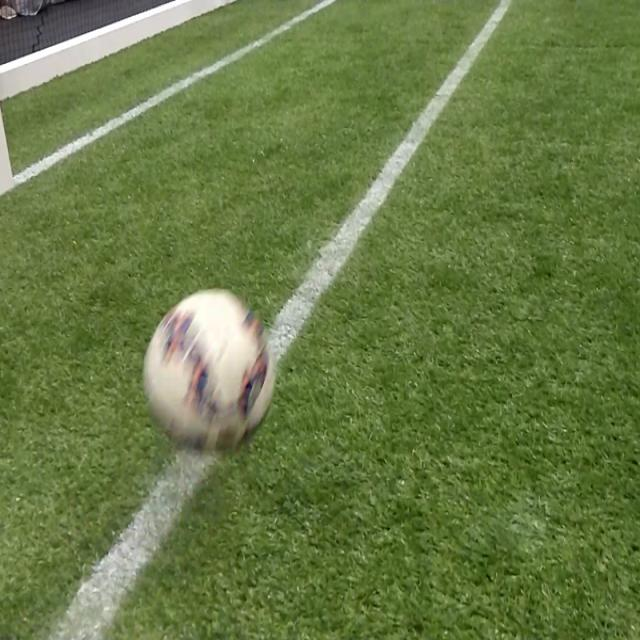ball: (143, 287, 272, 456)
goalpost: (1, 109, 16, 195)
